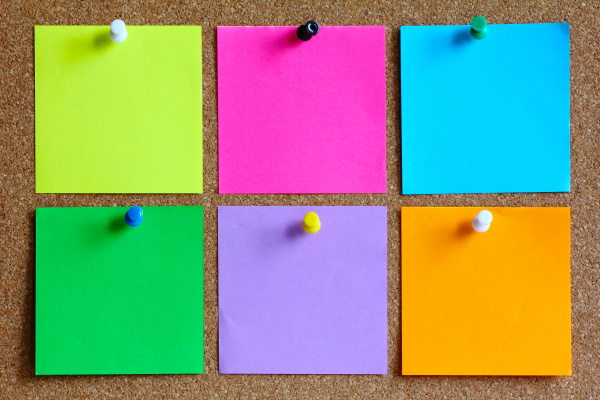blue_sticky_note: (399, 22, 571, 195), (217, 205, 388, 375)
green_sticky_note: (33, 205, 204, 375)
orange_sticky_note: (399, 207, 572, 376)
pink_sticky_note: (214, 25, 389, 194)
yellow_sticky_note: (33, 25, 204, 195)
